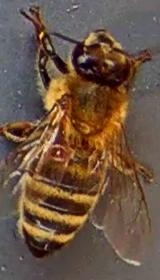varroa_mite: (47, 140, 76, 166)
